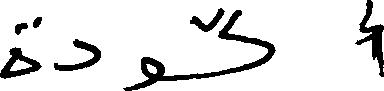X: (191, 3, 274, 83), (0, 12, 40, 83), (357, 0, 383, 81), (55, 34, 99, 75), (123, 52, 164, 90)
